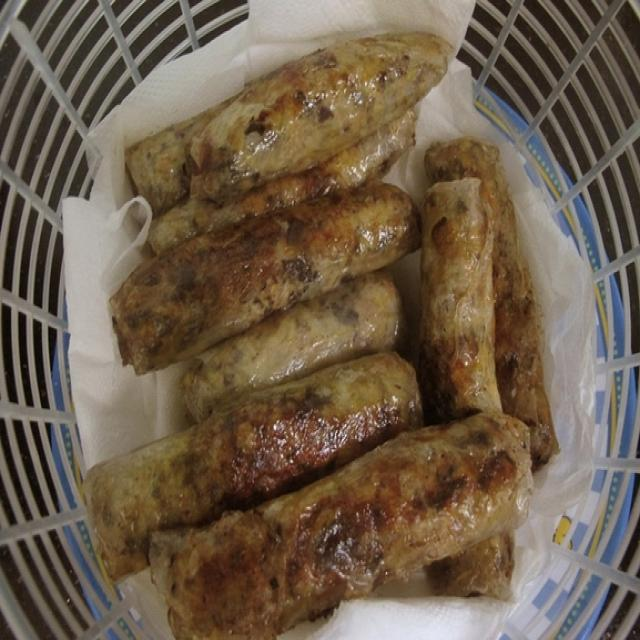炸货点心: (58, 17, 578, 624)
